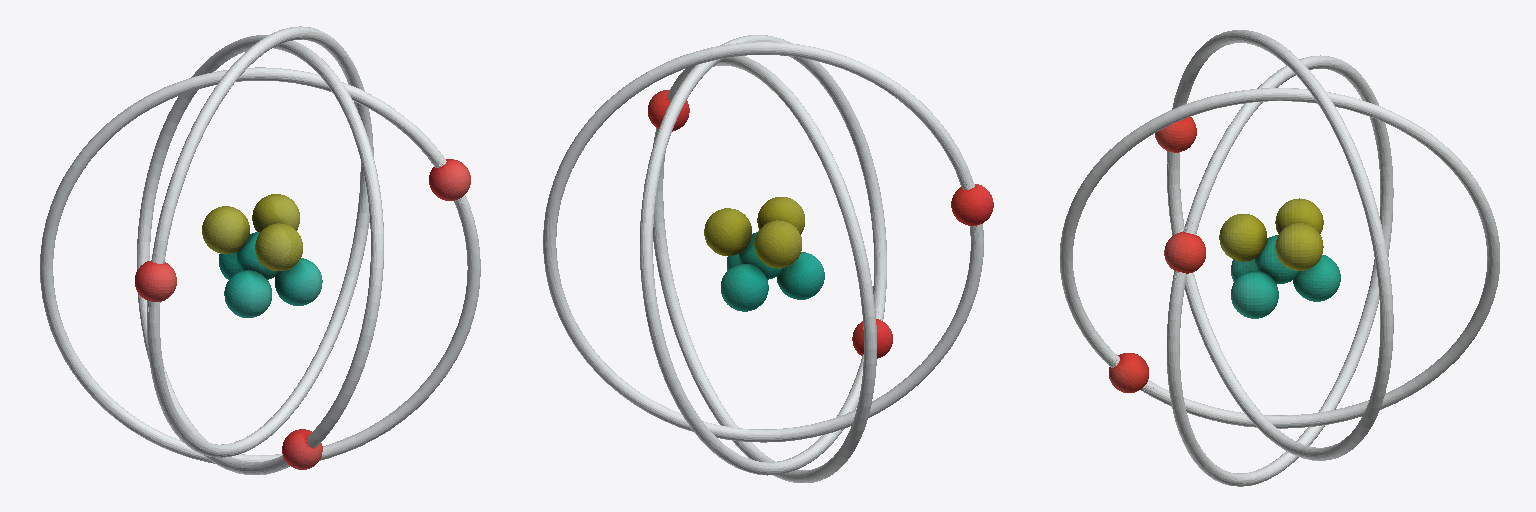
3 views of the same model, side by side, from view 1: azimuth 30°, elevation 25°; view 2: azimuth 150°, elevation 25°; view 3: azimuth 270°, elevation 25° (orthographic).
Parts seen in each view (by area): view 1: Object.1, Object.2, Object.3, Object.4; view 2: Object.2, Object.3, Object.1, Object.4; view 3: Object.3, Object.2, Object.1, Object.4.
Boxes of the visible parts, box(x1,y1,x2,y2) form: Object.1: box(40, 67, 480, 463); Object.2: box(135, 26, 373, 457); Object.3: box(137, 35, 383, 474); Object.4: box(202, 194, 322, 317); Object.2: box(543, 42, 993, 442); Object.3: box(640, 35, 892, 475); Object.1: box(648, 56, 876, 482); Object.4: box(704, 197, 824, 311); Object.3: box(1060, 88, 1499, 428); Object.2: box(1155, 30, 1393, 460); Object.1: box(1164, 55, 1393, 486); Object.4: box(1219, 198, 1340, 318).
Size of the model in its own units: 93.95 by 112 by 105.
Materials: 1 (1 with a texture image).